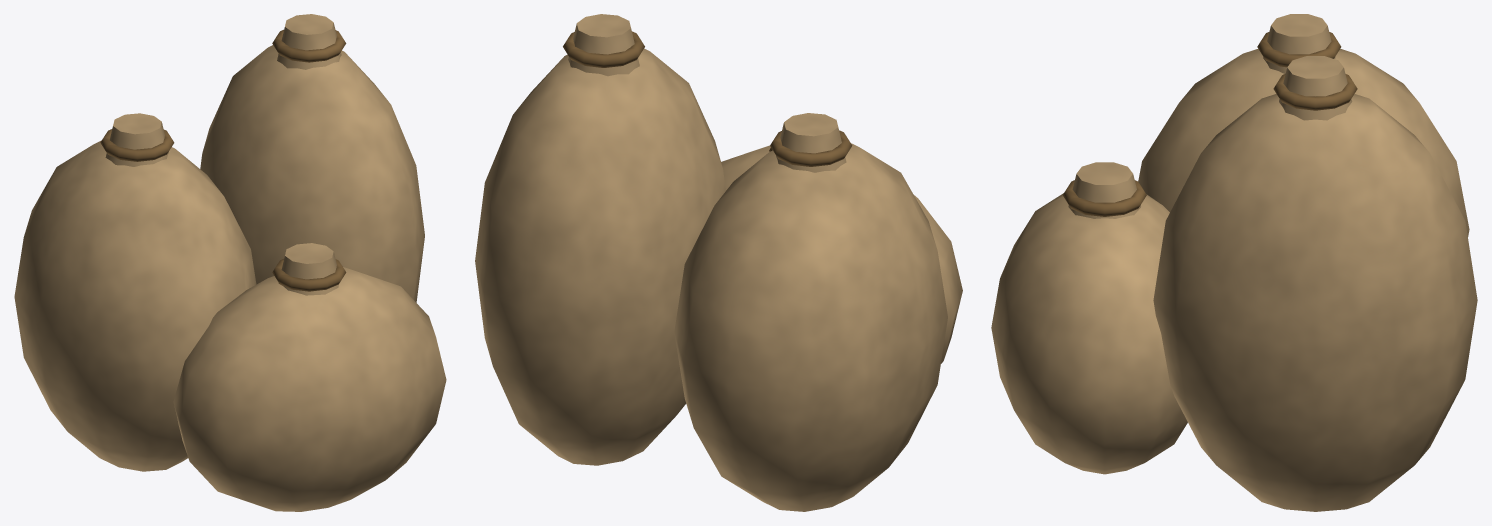
The model's file is Furn_Sacks.fbx.
3 views of the same model, side by side, from view 1: azimuth 30°, elevation 25°; view 2: azimuth 150°, elevation 25°; view 3: azimuth 270°, elevation 25° (orthographic). The views are drawn at different scales.
Parts seen in each view (by area): view 1: Furn_Sacks_Mesh; view 2: Furn_Sacks_Mesh; view 3: Furn_Sacks_Mesh.
Boxes of the visible parts, x1=… form: Furn_Sacks_Mesh: x1=14, y1=14, x2=446, y2=511; Furn_Sacks_Mesh: x1=475, y1=14, x2=962, y2=511; Furn_Sacks_Mesh: x1=991, y1=14, x2=1477, y2=511.
Bounding box in the file's own units: 0.6 × 0.6 × 0.6.
2 materials, 2 textured.
